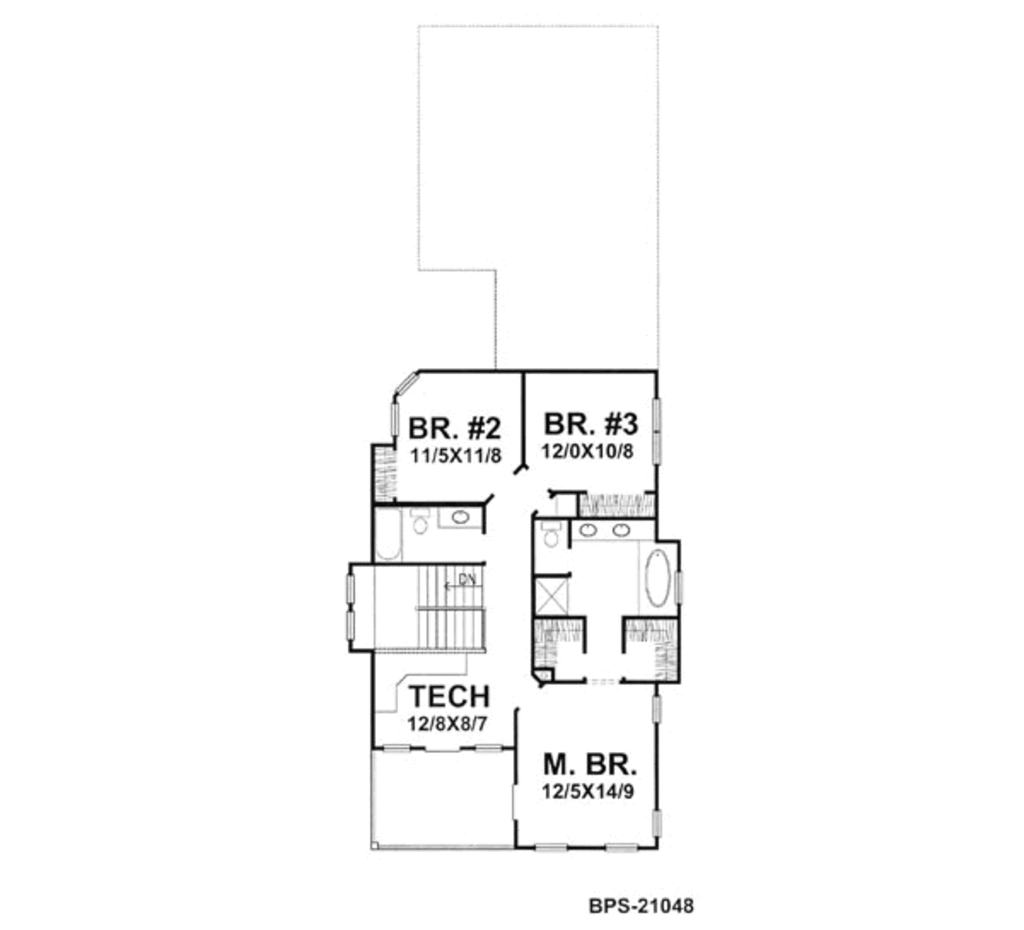large_sink: (535, 519, 570, 549), (408, 508, 435, 536)
small_sink: (576, 520, 641, 548), (434, 504, 484, 531)
stairs: (348, 561, 491, 651)
tub: (636, 533, 684, 617), (371, 503, 407, 565)
windows: (387, 375, 415, 436), (648, 399, 663, 473), (640, 808, 669, 832), (651, 689, 666, 728), (603, 843, 641, 858), (529, 841, 572, 854), (380, 740, 413, 754), (471, 742, 503, 754)
